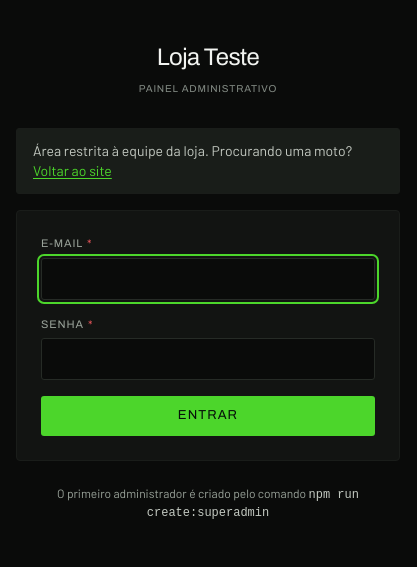
Test: RequireAuth e login › login recusado mostra a mensagem do servidor e não entra
The width and height of the screenshot is (417, 567).
Step 1. Type "ana@loja.test" into the field labelled "E-mail*" → (208, 279), box left=41, top=258, right=375, bottom=300
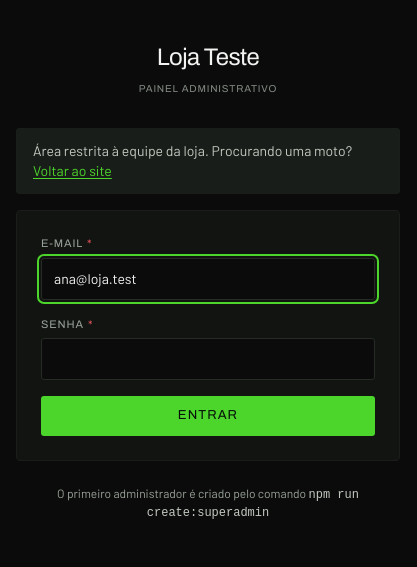
Step 2. Type "errada" into the password field labelled "Senha*" → (208, 359), box left=41, top=338, right=375, bottom=380
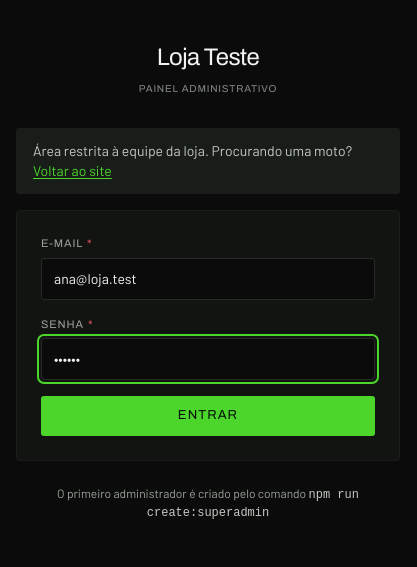
Step 3. Click the button "Entrar" → (208, 416), box left=41, top=396, right=375, bottom=436
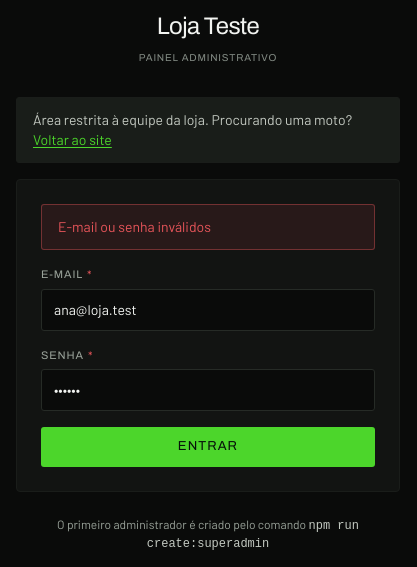
Now the text "E-mail ou senha inválidos" is shown, box left=41, top=204, right=375, bottom=250
